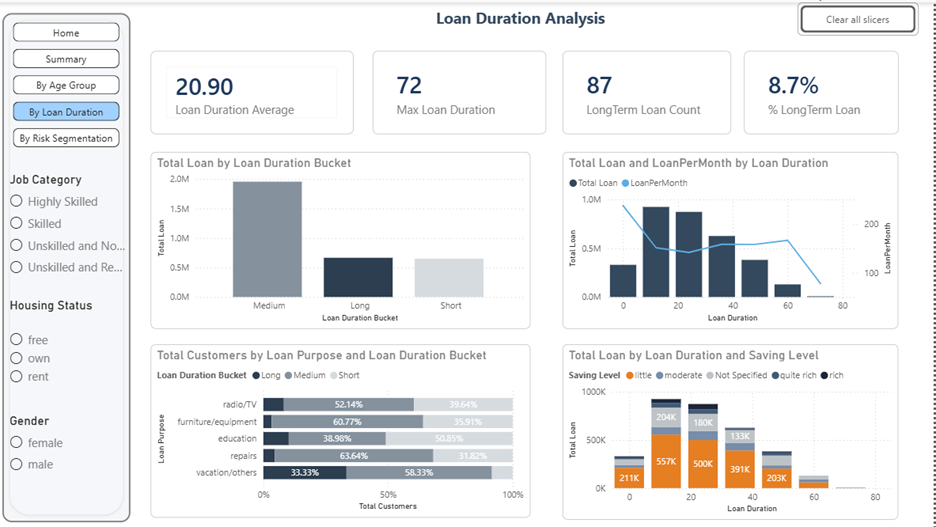

What the dashboard file says about the page in this screenshot:
{"tool":"powerbi","page":{"name":"By Loan Duration","canvas":[1280,720],"ordinal":3},"visuals":[{"type":"textbox","box":[429.1,0,574.8,45.3],"z":0},{"type":"shape","box":[9.7,14.6,174.9,694.6],"z":0,"group":"g1"},{"type":"pageNavigator","box":[24.3,27.6,145.7,173.3],"z":1000,"group":"g1"},{"type":"listSlicer","fields":{"Values":["german_credit_data.Housing Status"]},"box":[14.3,403.5,166.6,148.3],"z":2000,"group":"g1"},{"type":"listSlicer","fields":{"Values":["german_credit_data.Gender"]},"box":[14.3,560,168.6,134.1],"z":3000,"group":"g1"},{"type":"listSlicer","fields":{"Values":["german_credit_data.Job Category"]},"box":[14.3,230.8,170.7,186.9],"z":4000,"group":"g1"},{"type":"cardVisual","fields":{"Data":["german_credit_data.LongTerm Count"]},"box":[774,66.4,229.9,113.3],"z":5000},{"type":"cardVisual","fields":{"Data":["Max(german_credit_data.Loan Duration (Months))"]},"box":[514.9,66.4,236.4,113.3],"z":6000},{"type":"cardVisual","fields":{"Data":["Avg(german_credit_data.Loan Duration (Months))"]},"box":[212.1,66.4,276.9,113.3],"z":7000},{"type":"cardVisual","fields":{"Data":["german_credit_data.ShortTerm Count"]},"box":[1021.7,66.4,210.5,113.3],"z":8000},{"type":"clusteredColumnChart","fields":{"Y":["Sum(german_credit_data.Credit amount)"],"Category":["german_credit_data.Loan Duration Bucket"]},"box":[212.1,204,518.2,241.3],"z":9000},{"type":"lineClusteredColumnComboChart","fields":{"Y":["Sum(german_credit_data.Credit amount)"],"Y2":["german_credit_data.LoanPerMonth"],"Category":["german_credit_data.Loan Duration  (bins)"]},"box":[774,204,458.2,241.3],"z":10000},{"type":"hundredPercentStackedBarChart","fields":{"Category":["german_credit_data.Loan Purpose"],"Y":["german_credit_data.Customer Count"],"Series":["german_credit_data.Loan Duration Bucket"]},"box":[212.1,466.3,518.2,236.4],"z":11000},{"type":"columnChart","fields":{"Y":["Sum(german_credit_data.Credit amount)"],"Series":["german_credit_data.Saving Level"],"Category":["german_credit_data.Loan Duration  (bins)"]},"box":[774,466.3,458.2,239.6],"z":12000},{"type":"group","id":"g1","title":"Group 1","box":[9.7,14.6,175.3,694.6],"z":12001},{"type":"actionButton","box":[1094.6,0,165.2,45.3],"z":12002}]}

Visuals, with their boxes in screenshot pixels (x1, y1, x2, y2), scaled from the page's 1280x720 canvas onto the 936x527 screenshot:
textbox: crop(314, 0, 734, 33)
shape: crop(7, 11, 135, 519)
pageNavigator: crop(18, 20, 124, 147)
listSlicer - german_credit_data.Housing Status: crop(10, 295, 132, 404)
listSlicer - german_credit_data.Gender: crop(10, 410, 134, 508)
listSlicer - german_credit_data.Job Category: crop(10, 169, 135, 306)
cardVisual - german_credit_data.LongTerm Count: crop(566, 49, 734, 132)
cardVisual - Max(german_credit_data.Loan Duration (Months)): crop(377, 49, 549, 132)
cardVisual - Avg(german_credit_data.Loan Duration (Months)): crop(155, 49, 358, 132)
cardVisual - german_credit_data.ShortTerm Count: crop(747, 49, 901, 132)
clusteredColumnChart - Sum(german_credit_data.Credit amount) x german_credit_data.Loan Duration Bucket: crop(155, 149, 534, 326)
lineClusteredColumnComboChart - Sum(german_credit_data.Credit amount) x german_credit_data.LoanPerMonth: crop(566, 149, 901, 326)
hundredPercentStackedBarChart - german_credit_data.Loan Purpose x german_credit_data.Customer Count: crop(155, 341, 534, 514)
columnChart - Sum(german_credit_data.Credit amount) x german_credit_data.Saving Level: crop(566, 341, 901, 517)
"Group 1" group: crop(7, 11, 135, 519)
actionButton: crop(800, 0, 921, 33)
